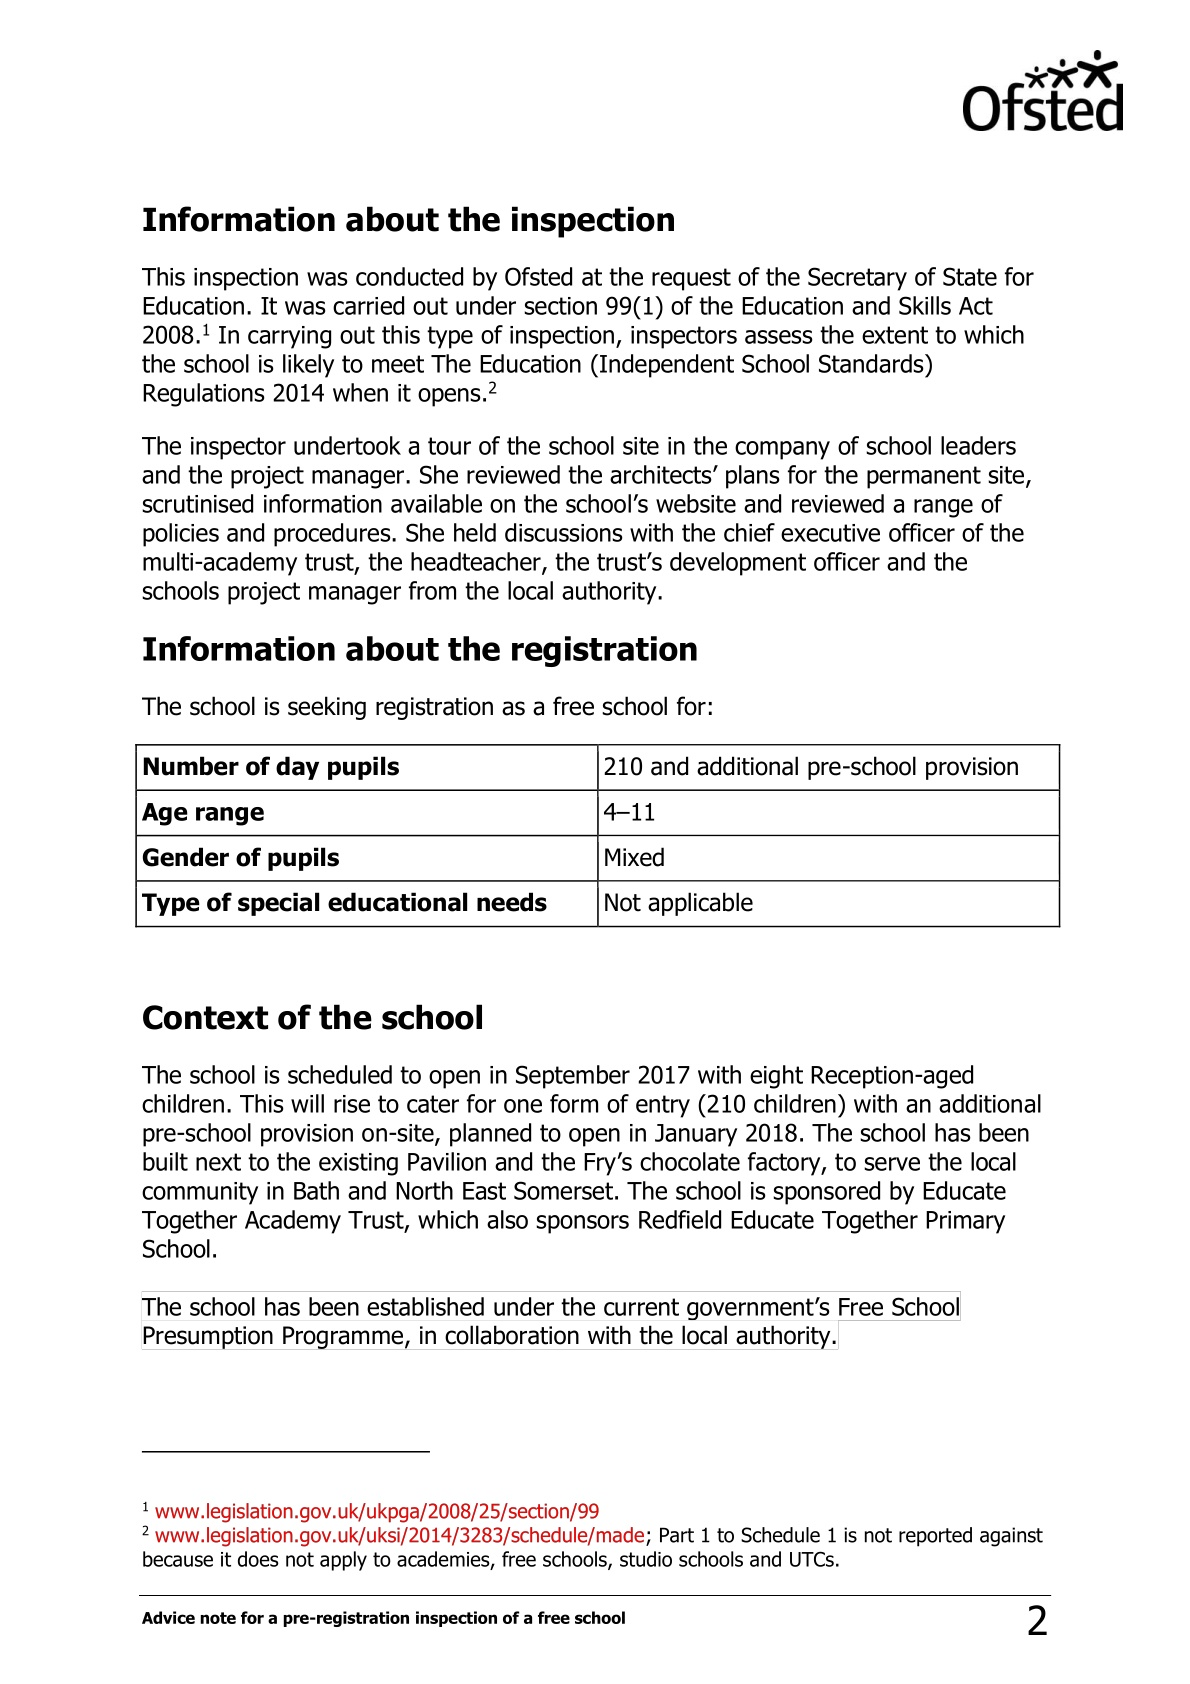full_lined: (135, 744, 1061, 928)
